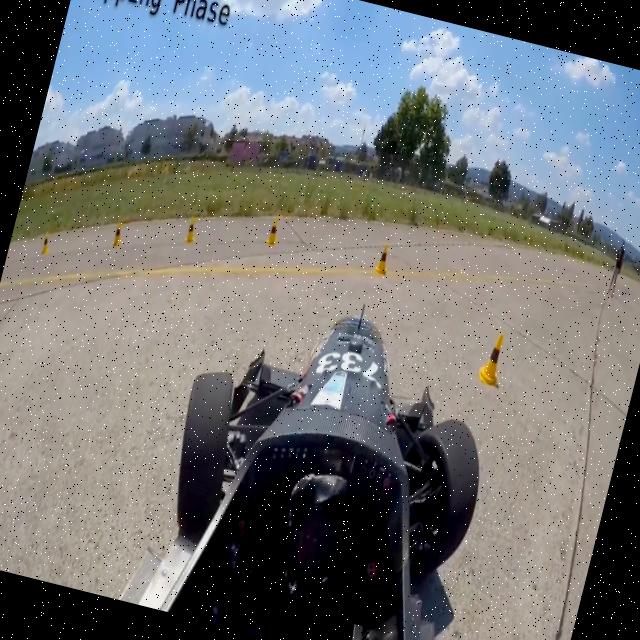yellow_cone: (475, 330, 511, 388), (372, 245, 394, 278), (182, 214, 202, 248), (108, 219, 126, 251), (37, 230, 53, 259), (264, 219, 280, 247)
